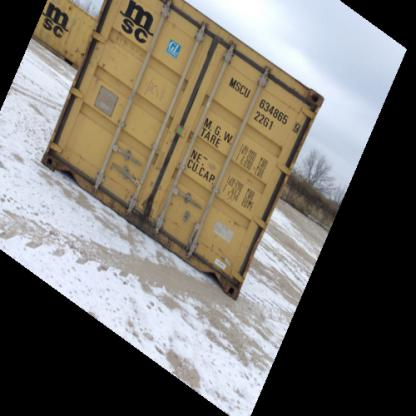Damage: (196, 233, 232, 270), (119, 188, 156, 222), (139, 77, 174, 106), (44, 145, 90, 167), (107, 30, 136, 56), (296, 84, 320, 109), (226, 214, 249, 234), (94, 62, 106, 88)
